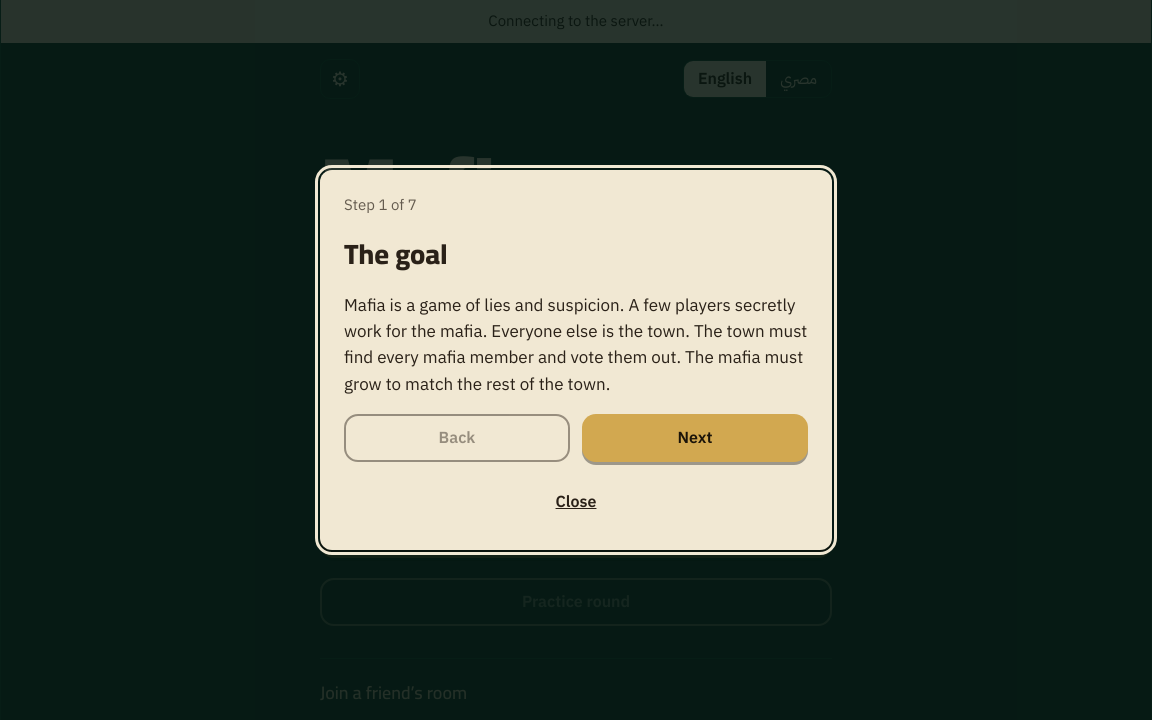
Scenario: tutorial › opens by itself on the first visit and remembers that it was closed
Check: the dialog named "How to play" is shown, box [320,170,832,550]
Step 1. Click the button "Close" → point(576, 502), box [344,478,808,526]
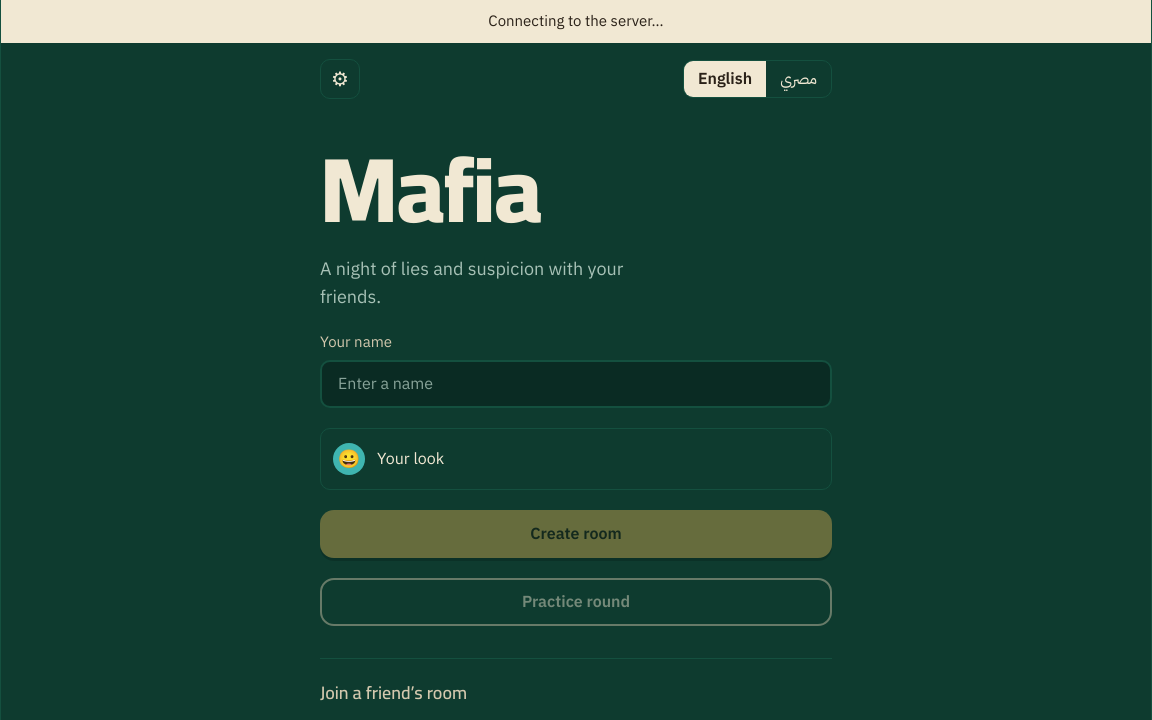
Check: the dialog is gone
